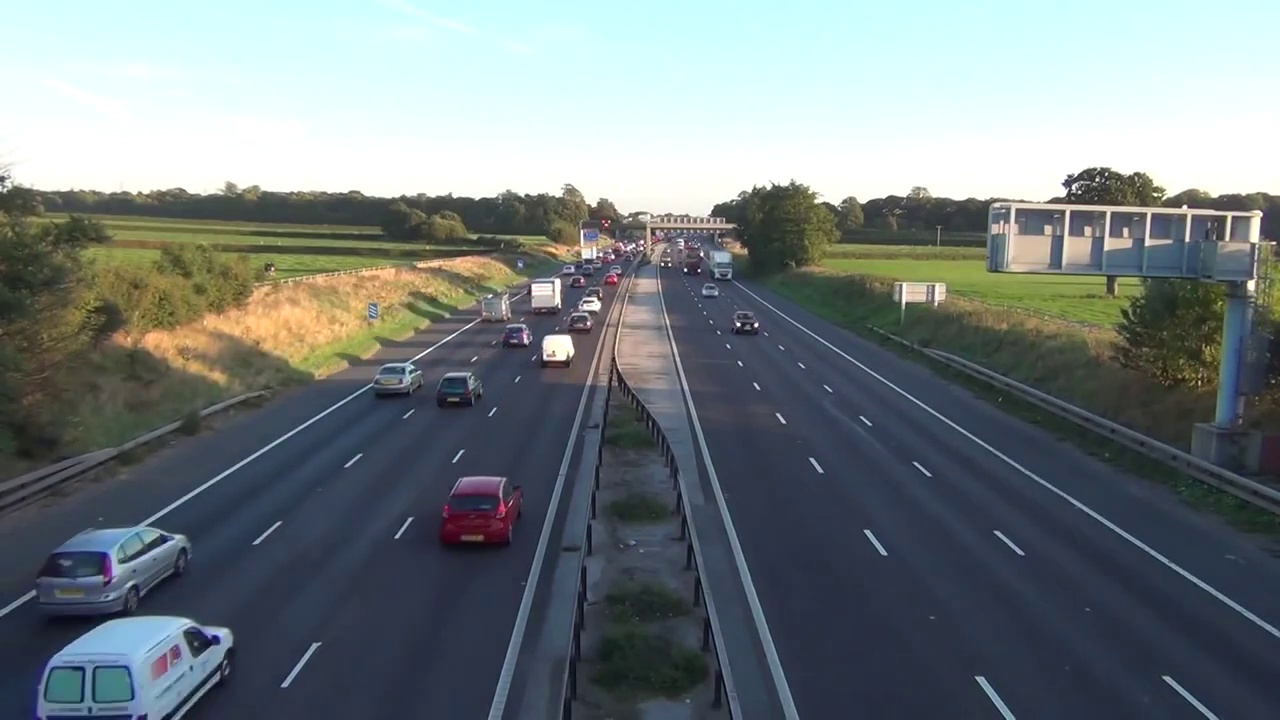bus: (35, 527, 192, 613), (441, 474, 525, 547), (372, 363, 424, 397), (434, 372, 482, 407), (731, 310, 760, 337), (502, 323, 531, 346), (567, 314, 594, 330), (577, 299, 602, 314), (701, 283, 719, 298), (569, 275, 586, 287), (585, 287, 603, 298)
car: (530, 277, 560, 313), (709, 249, 736, 281), (682, 249, 702, 275)
lorry: (34, 616, 233, 720), (541, 335, 573, 368), (481, 295, 511, 322)
